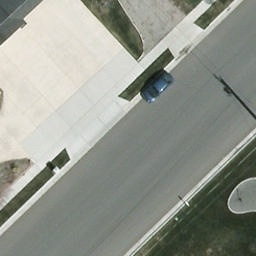car: (140, 71, 175, 105)
